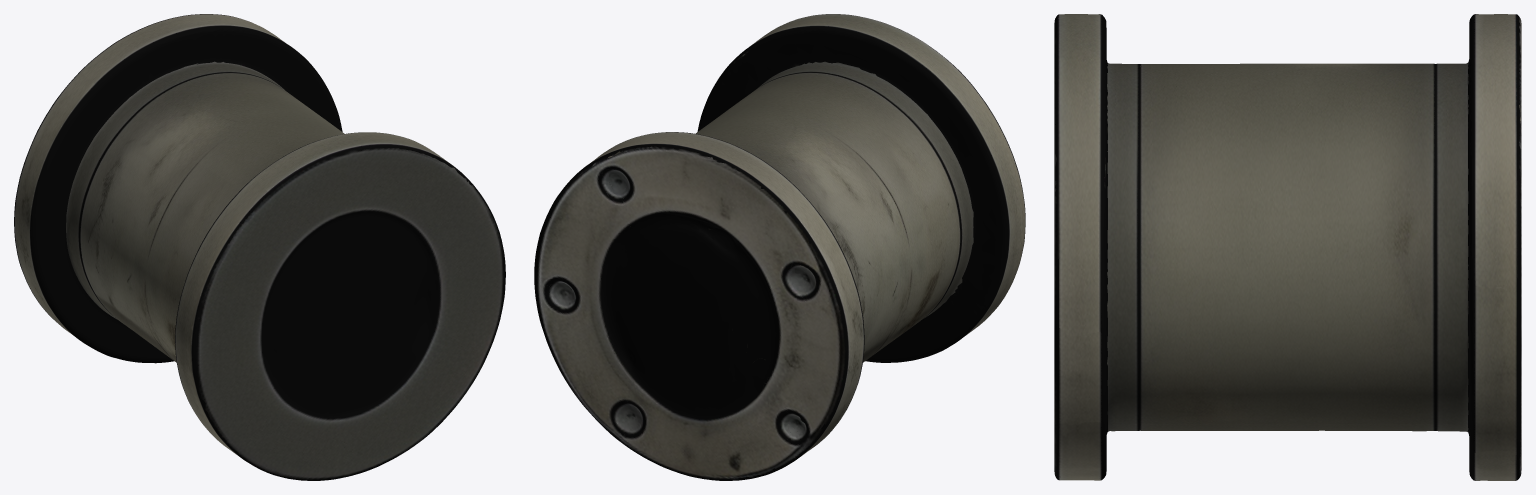
The model's file is feature-pipe-straight.glb.
The picture shows the model from 3 angles, left to right: view 1: azimuth 30°, elevation 25°; view 2: azimuth 150°, elevation 25°; view 3: azimuth 270°, elevation 25°; orthographic projection. The views are drawn at different scales.
Parts seen in each view (by area): view 1: tmpw2ntf45t.ply; view 2: tmpw2ntf45t.ply; view 3: tmpw2ntf45t.ply.
Boxes of the visible parts, x1,y1,x2,y2 form: tmpw2ntf45t.ply: [14, 14, 505, 480]; tmpw2ntf45t.ply: [534, 14, 1025, 480]; tmpw2ntf45t.ply: [1054, 14, 1521, 480].
Size of the model in its own units: 1 by 1 by 1.
Materials: 1 (1 with a texture image).
